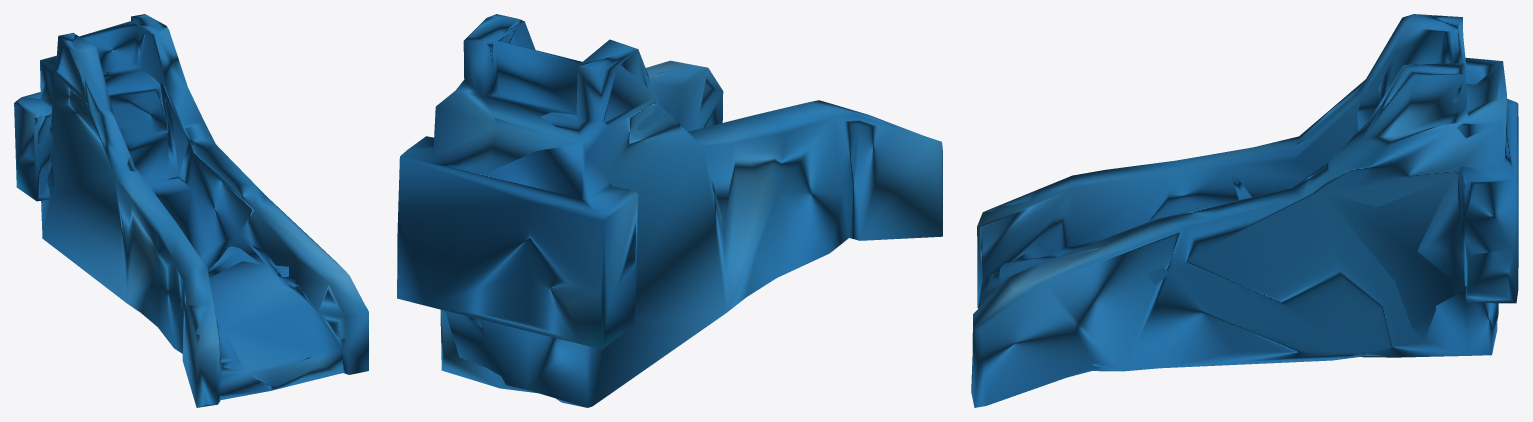
File: gen3d-ice-slide-lod1.glb
The picture shows the model from 3 angles, left to right: view 1: azimuth 30°, elevation 25°; view 2: azimuth 150°, elevation 25°; view 3: azimuth 270°, elevation 25°; orthographic projection. The views are drawn at different scales.
Parts seen in each view (by area): view 1: part_0; view 2: part_0; view 3: part_0.
Part boxes in pixels (x1=…): part_0: x1=14, y1=14, x2=368, y2=407; part_0: x1=397, y1=14, x2=942, y2=407; part_0: x1=971, y1=14, x2=1518, y2=407.
Bounding box in the file's own units: 0.7657 × 0.999 × 1.59.
